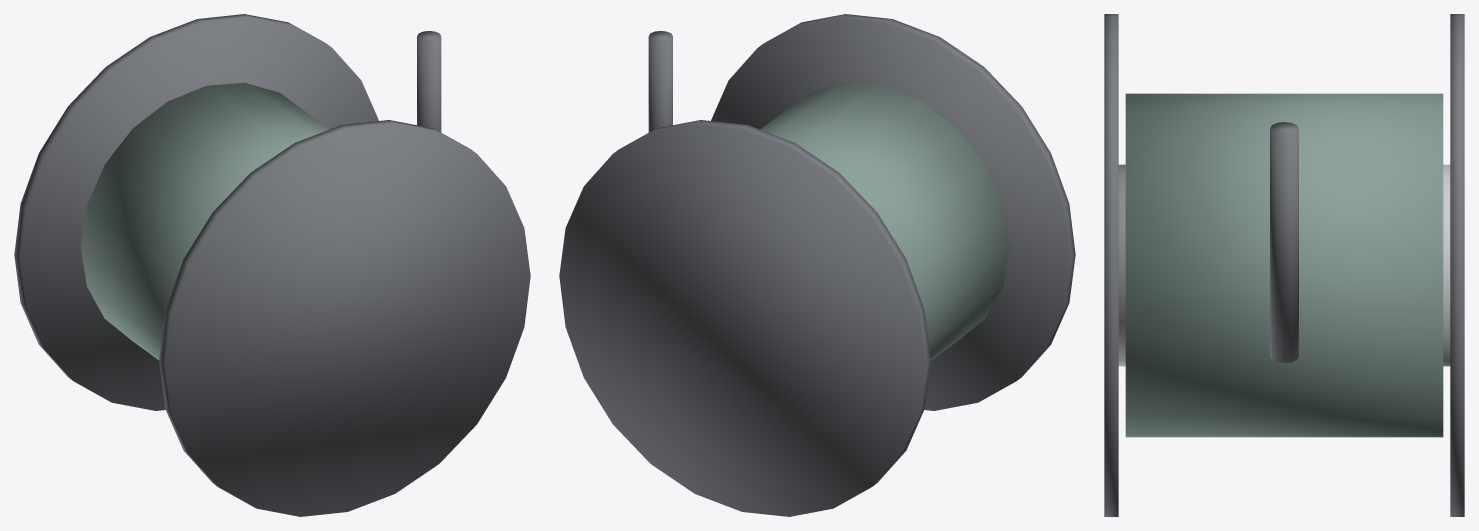
Rendered from Prop_CableReel.glb.
The picture shows the model from 3 angles, left to right: view 1: azimuth 30°, elevation 25°; view 2: azimuth 150°, elevation 25°; view 3: azimuth 270°, elevation 25°; orthographic projection. The views are drawn at different scales.
Visible parts, largest first — view 1: Prop_CableReel_LOD0; view 2: Prop_CableReel_LOD0; view 3: Prop_CableReel_LOD0.
Boxes of the visible parts, <box> form: Prop_CableReel_LOD0: <box>14,14,530,516</box>; Prop_CableReel_LOD0: <box>559,14,1075,516</box>; Prop_CableReel_LOD0: <box>1104,14,1464,516</box>.
Size of the model in its own units: 0.7 by 0.7 by 0.5.
